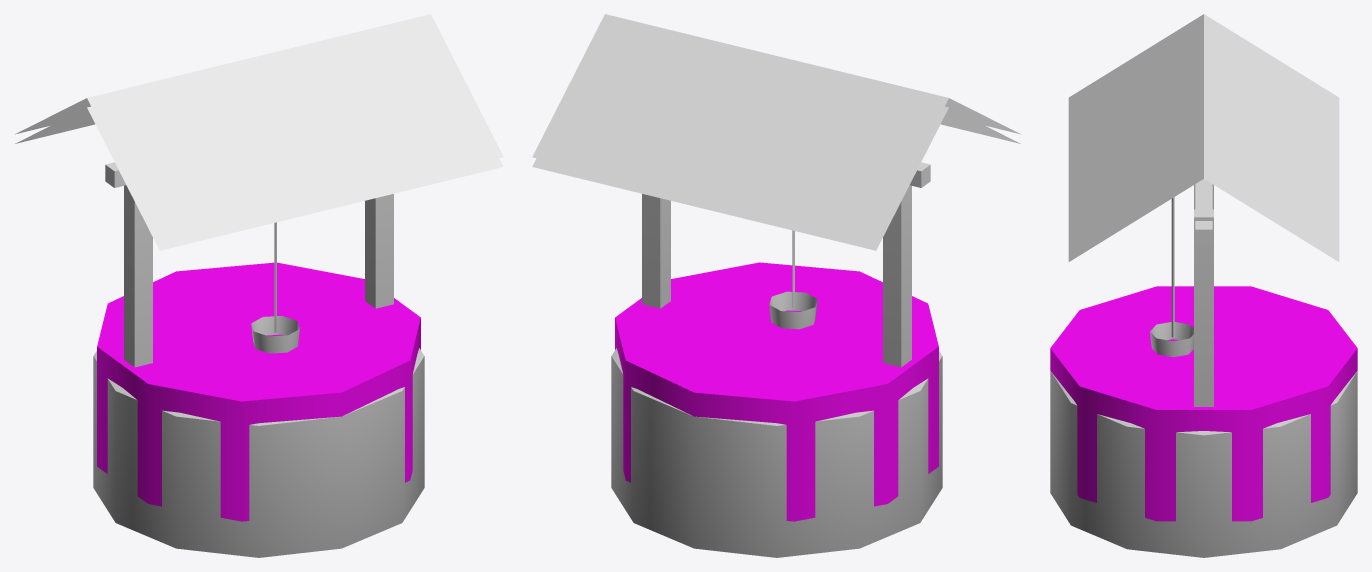
File: well.glb
The picture shows the model from 3 angles, left to right: view 1: azimuth 30°, elevation 25°; view 2: azimuth 150°, elevation 25°; view 3: azimuth 270°, elevation 25°; orthographic projection. The views are drawn at different scales.
Visible parts, largest first — view 1: well, well_hull; view 2: well, well_hull; view 3: well, well_hull.
Boxes of the visible parts, left/top/right/bottom form: well: left=15, top=14, right=503, bottom=557; well_hull: left=97, top=262, right=420, bottom=521; well: left=532, top=14, right=1020, bottom=557; well_hull: left=615, top=262, right=938, bottom=521; well: left=1050, top=14, right=1357, bottom=557; well_hull: left=1050, top=286, right=1357, bottom=521.
Size of the model in its own units: 3 by 3.6 by 2.5.
